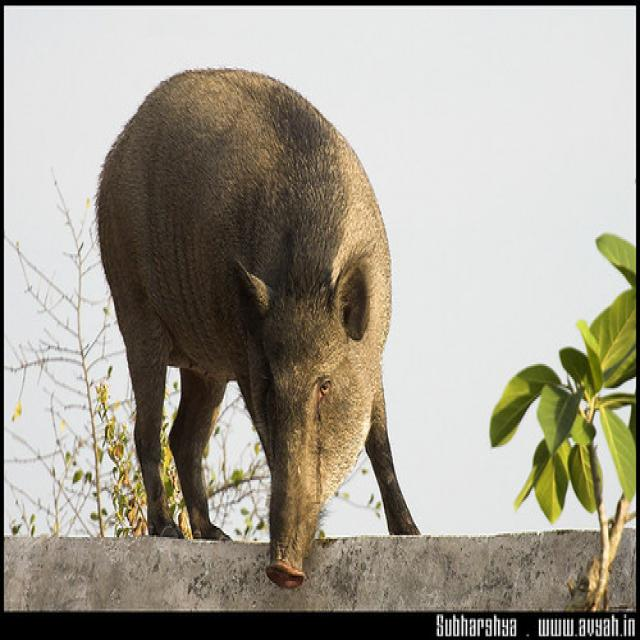boar: (88, 63, 428, 600)
